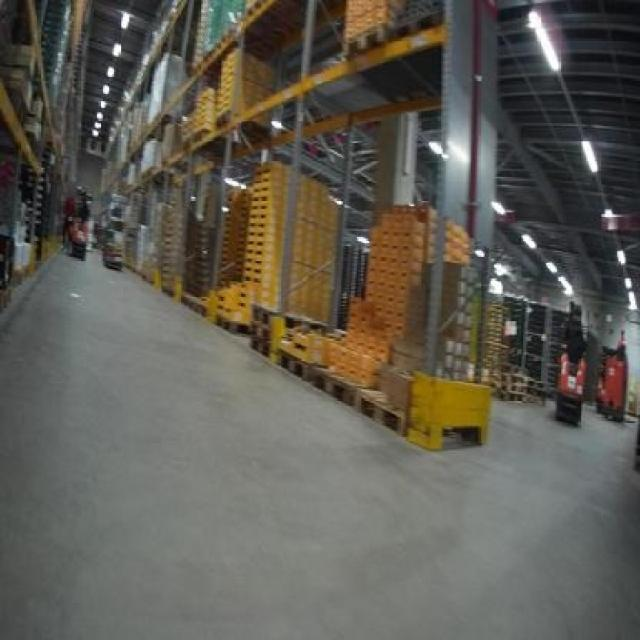floor: (0, 251, 637, 637)
pallets: (405, 371, 489, 446)
